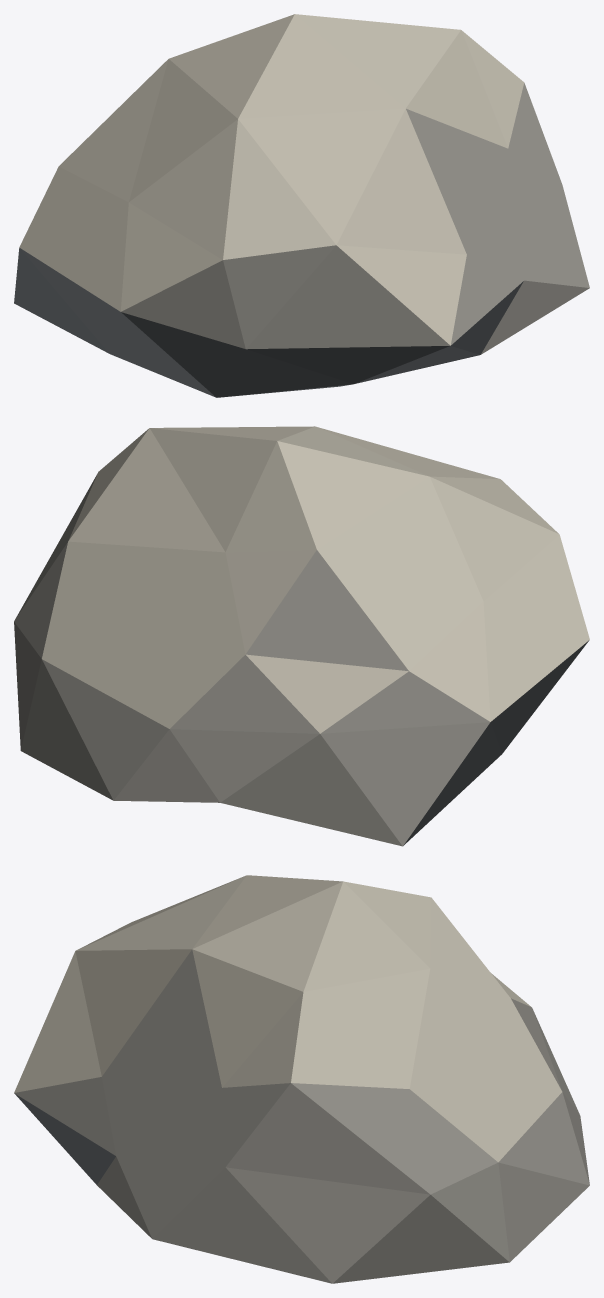
The model's file is SM_Rock_E.fbx.
The picture shows the model from 3 angles, top to bottom: view 1: azimuth 30°, elevation 25°; view 2: azimuth 150°, elevation 25°; view 3: azimuth 270°, elevation 25°; orthographic projection.
Visible parts, largest first — view 1: SM_Rock_E; view 2: SM_Rock_E; view 3: SM_Rock_E.
Boxes of the visible parts, <box> form: SM_Rock_E: <box>14,14,589,397</box>; SM_Rock_E: <box>14,426,589,846</box>; SM_Rock_E: <box>14,875,589,1283</box>.
Size of the model in its own units: 2.63 by 1.56 by 2.7.
